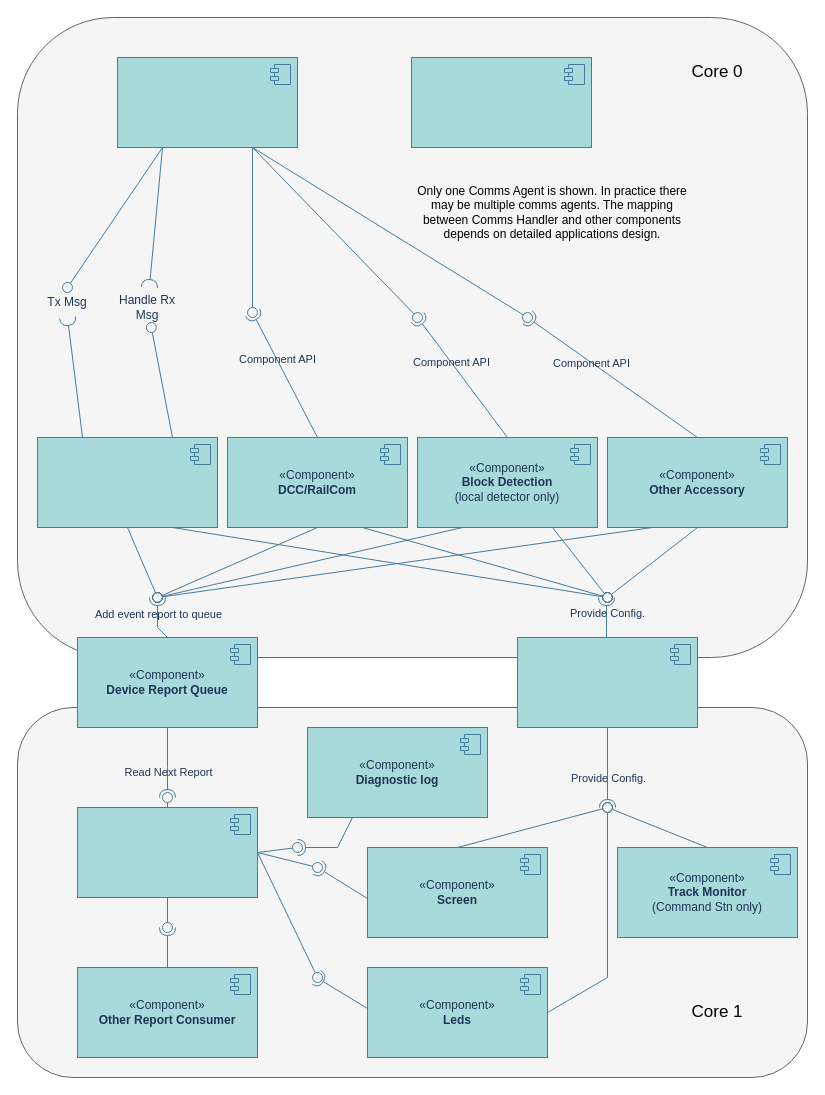
Image size: 825x1095. Some labels were removed from this diagram. The centre of each missing label's shape, as x and y in pixels:
«Component» Comms Agent: the point at 207,102
«Component» Comms Handler: the point at 127,482
«Component» Hardware Configuration: the point at 607,682
«Component» Heart Beat: the point at 501,102
«Component» Report Router: the point at 167,852
